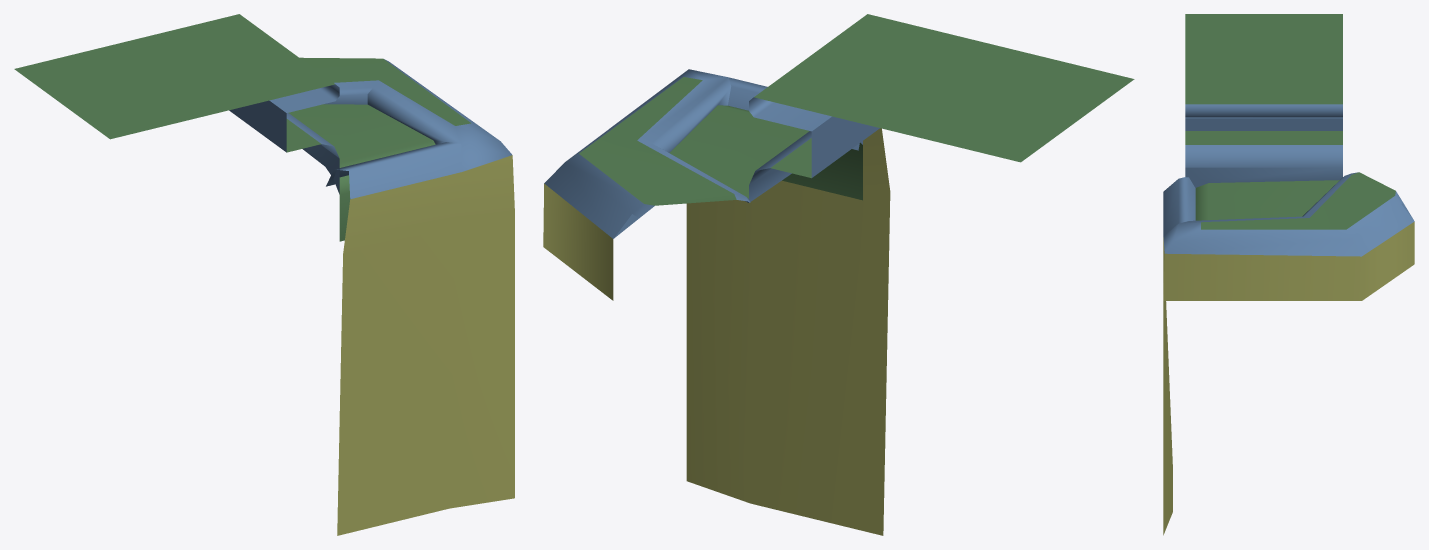
Rendered from Plat_Cascada.fbx.
3 renders of one model, left to right at view 1: azimuth 30°, elevation 25°; view 2: azimuth 150°, elevation 25°; view 3: azimuth 270°, elevation 25°, orthographic. The views are drawn at different scales.
Visible parts, largest first — view 1: Plat_Cascada, Ground1, Wall1; view 2: Plat_Cascada, Ground1, Wall1; view 3: Ground1, Wall1, Plat_Cascada.
Part boxes in pixels (box(x1,y1,x2,y2)): Plat_Cascada: box(337, 155, 514, 535); Ground1: box(14, 14, 470, 241); Wall1: box(229, 59, 511, 199); Plat_Cascada: box(543, 128, 890, 535); Ground1: box(579, 14, 1134, 205); Wall1: box(544, 69, 879, 238); Ground1: box(1185, 14, 1395, 229); Wall1: box(1163, 104, 1414, 256); Plat_Cascada: box(1163, 221, 1414, 535).
Bounding box in the file's own units: 12321 × 13374 × 8345.
